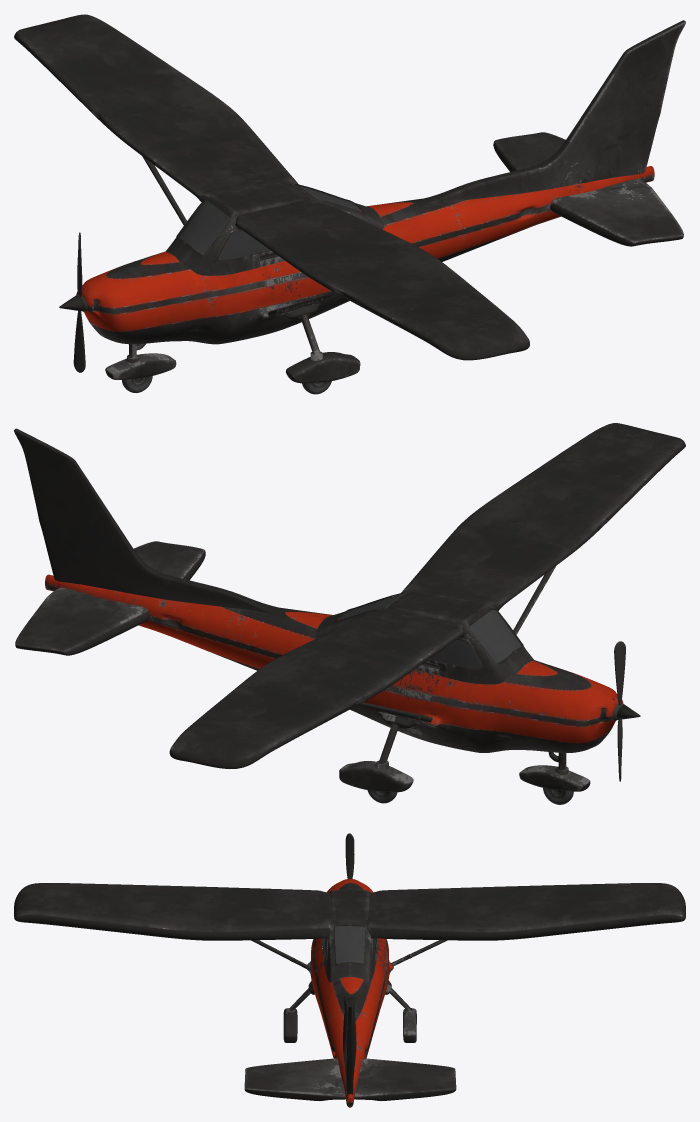
3 renders of one model, top to bottom at view 1: azimuth 30°, elevation 25°; view 2: azimuth 150°, elevation 25°; view 3: azimuth 270°, elevation 25°, orthographic. The views are drawn at different scales.
Parts seen in each view (by area): view 1: body_cockpit_plane_0, body_cockpit_plane_0_1, prop; view 2: body_cockpit_plane_0, body_cockpit_plane_0_1, prop; view 3: body_cockpit_plane_0, body_cockpit_plane_0_1.
Part boxes in pixels (<box>): body_cockpit_plane_0: <box>81,20,685,394</box>; body_cockpit_plane_0_1: <box>14,14,652,392</box>; prop: <box>59,232,87,372</box>; body_cockpit_plane_0: <box>14,423,685,803</box>; body_cockpit_plane_0_1: <box>45,441,684,804</box>; prop: <box>612,641,640,781</box>; body_cockpit_plane_0: <box>15,878,456,1107</box>; body_cockpit_plane_0_1: <box>14,880,685,1101</box>.
Bounding box in the file's own units: 0.8031 × 0.2988 × 1.
Materials: 1 (1 with a texture image).
